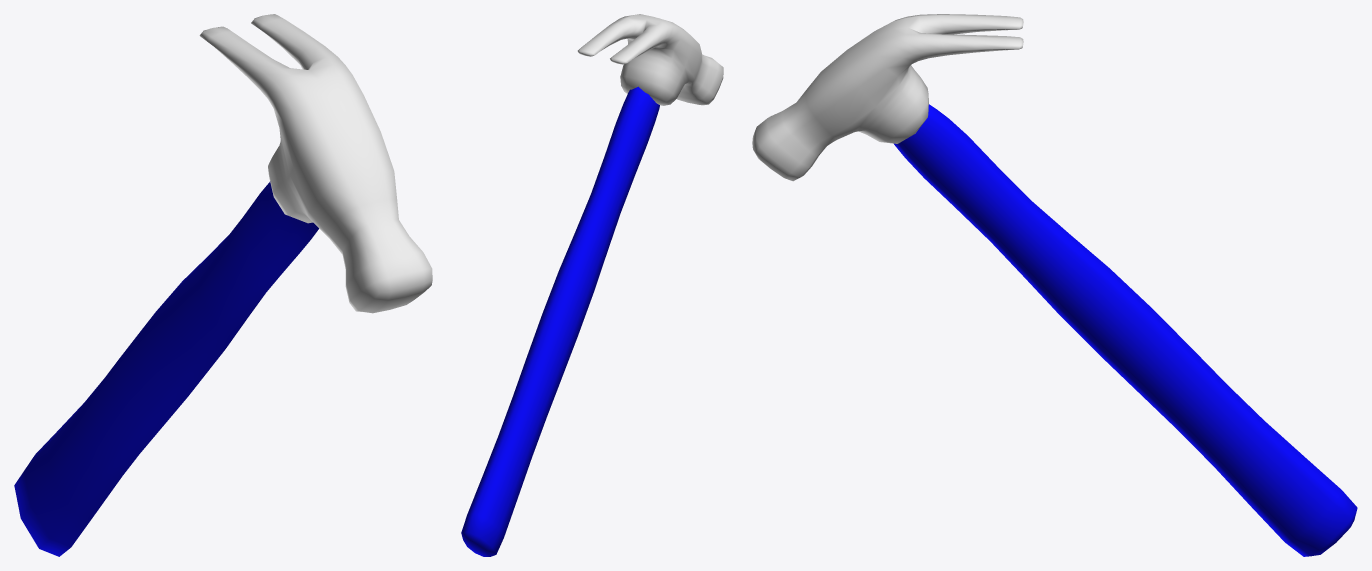
Rendered from hammer.fbx.
3 views of the same model, side by side, from view 1: azimuth 30°, elevation 25°; view 2: azimuth 150°, elevation 25°; view 3: azimuth 270°, elevation 25° (orthographic). The views are drawn at different scales.
Visible parts, largest first — view 1: Cube.001, Cube; view 2: Cube.001, Cube; view 3: Cube.001, Cube.
Boxes of the visible parts, left/top/right/bottom form: Cube.001: left=14, top=181, right=318, bottom=556; Cube: left=199, top=14, right=432, bottom=313; Cube.001: left=461, top=86, right=659, bottom=556; Cube: left=577, top=14, right=723, bottom=105; Cube.001: left=894, top=104, right=1357, bottom=556; Cube: left=752, top=14, right=1023, bottom=181.
Bounding box in the file's own units: 60.8 × 478 × 494.
